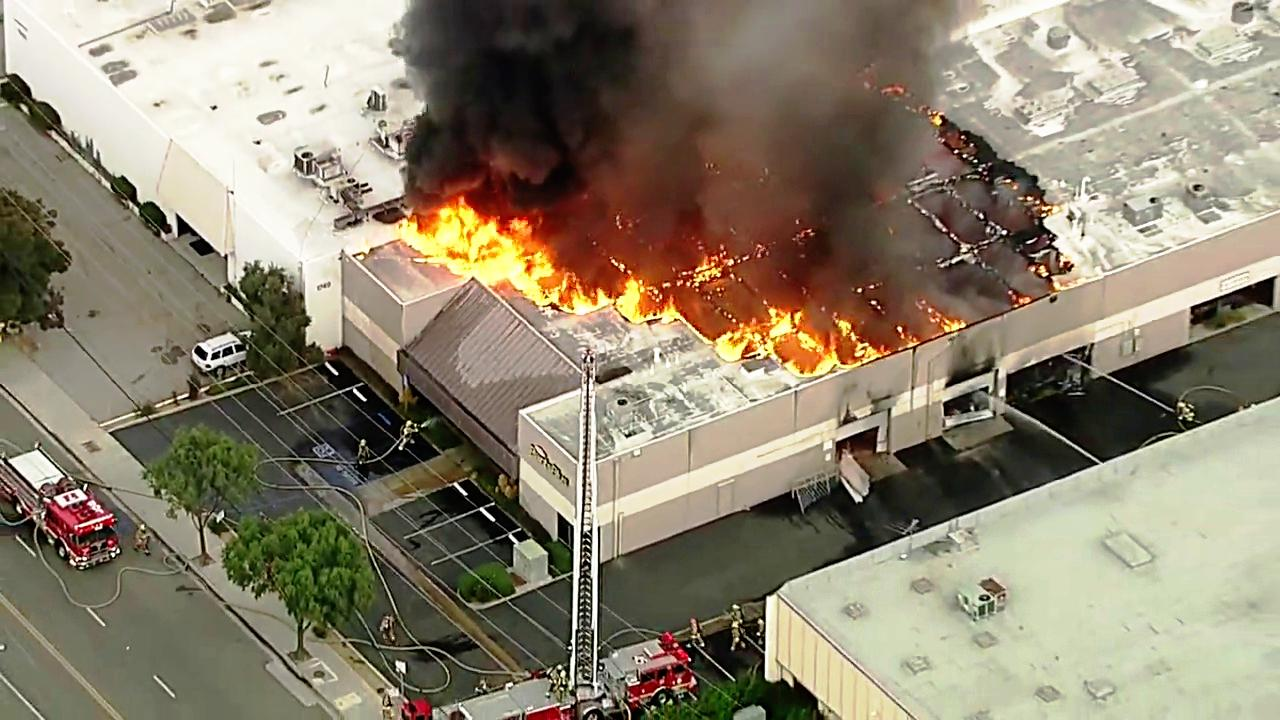fire: (407, 215, 537, 290), (551, 280, 657, 319)
smoke: (397, 0, 584, 192)
